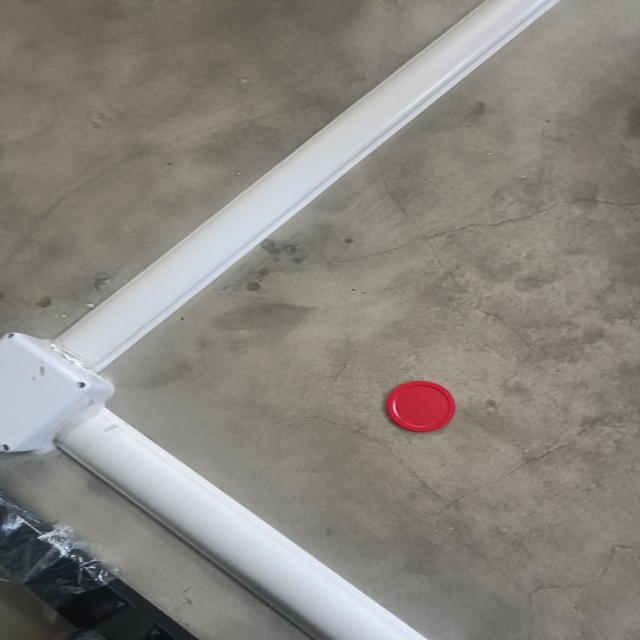chip: (384, 379, 458, 434)
